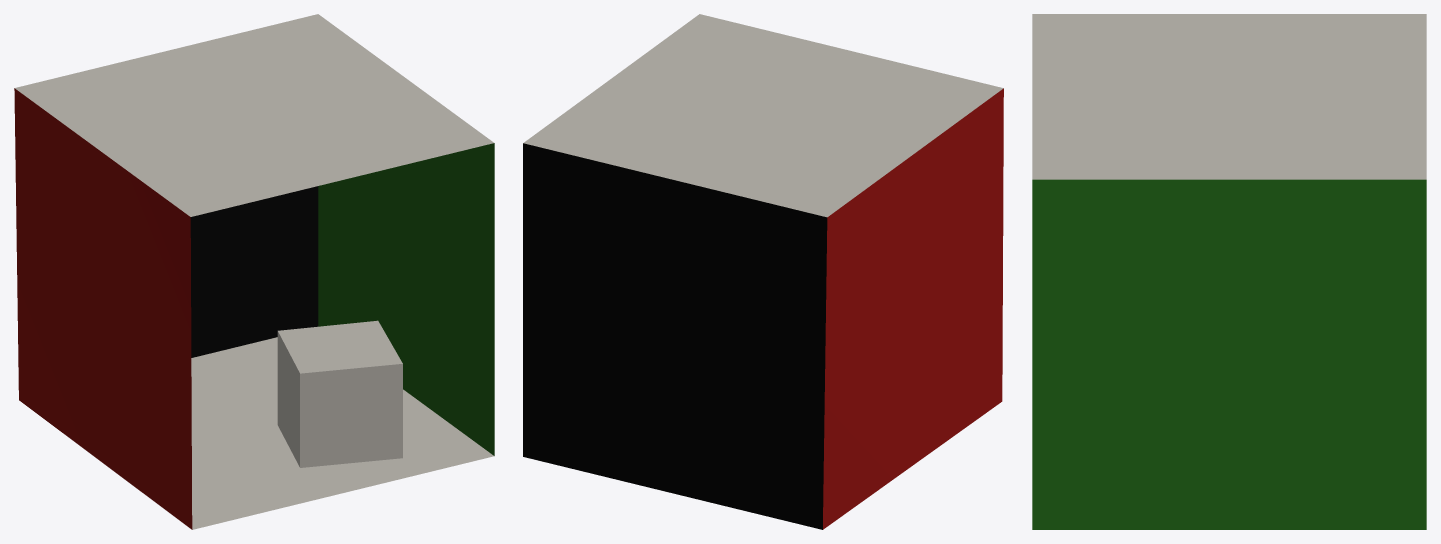
Rendered from CornellBox-Mirror-Modified.obj.
The picture shows the model from 3 angles, left to right: view 1: azimuth 30°, elevation 25°; view 2: azimuth 150°, elevation 25°; view 3: azimuth 270°, elevation 25°; orthographic projection. The views are drawn at different scales.
Visible parts, largest first — view 1: CornellBox-Mirror; view 2: CornellBox-Mirror; view 3: CornellBox-Mirror.
Boxes of the visible parts, x1=… form: CornellBox-Mirror: x1=14, y1=14, x2=494, y2=529; CornellBox-Mirror: x1=523, y1=14, x2=1003, y2=529; CornellBox-Mirror: x1=1032, y1=14, x2=1426, y2=529.
Bounding box in the file's own units: 2.02 × 1.99 × 2.03.
